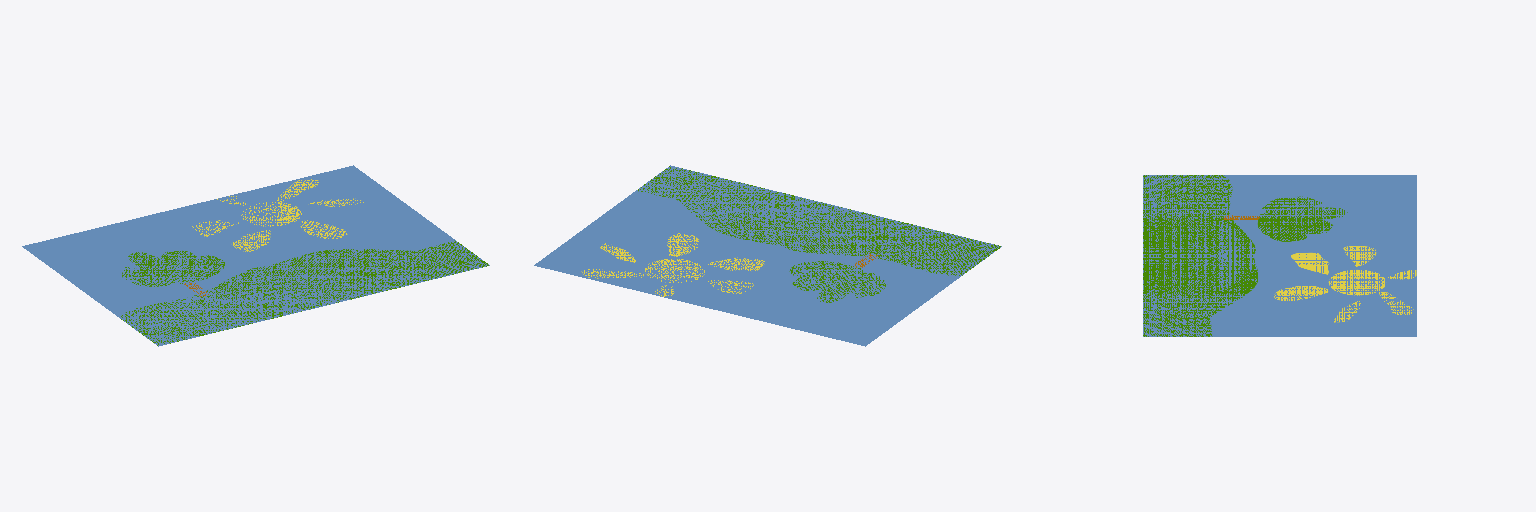
3 views of the same model, side by side, from view 1: azimuth 30°, elevation 25°; view 2: azimuth 150°, elevation 25°; view 3: azimuth 270°, elevation 25° (orthographic).
Visible parts, largest first — view 1: Drawing; view 2: Drawing; view 3: Drawing.
Boxes of the visible parts, x1=… form: Drawing: x1=22, y1=165, x2=489, y2=346; Drawing: x1=534, y1=165, x2=1001, y2=346; Drawing: x1=1143, y1=175, x2=1416, y2=336.
Bounding box in the file's own units: 0.56 × 0 × 0.4.
Materials: 2 (1 with a texture image).